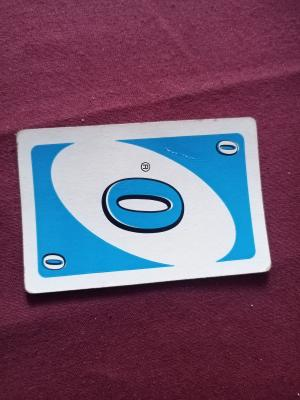num_0: (95, 171, 192, 239), (38, 246, 70, 278), (213, 134, 245, 163)
